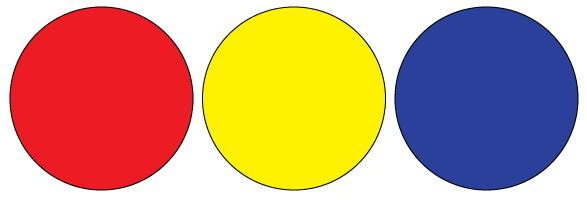blue_circle: (393, 4, 581, 197)
red_circle: (4, 2, 197, 194)
yellow_circle: (199, 5, 391, 197)
